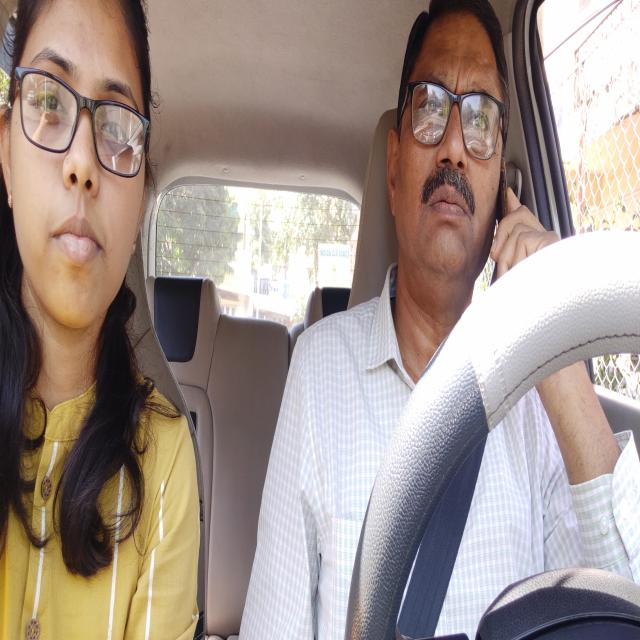mobile: (492, 142, 516, 290)
person: (0, 0, 154, 356), (380, 0, 510, 291)
